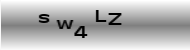4: (73, 25, 89, 39)
L: (95, 9, 106, 23)
Z: (106, 11, 122, 26)
s: (37, 13, 50, 25)
w: (55, 18, 74, 30)
